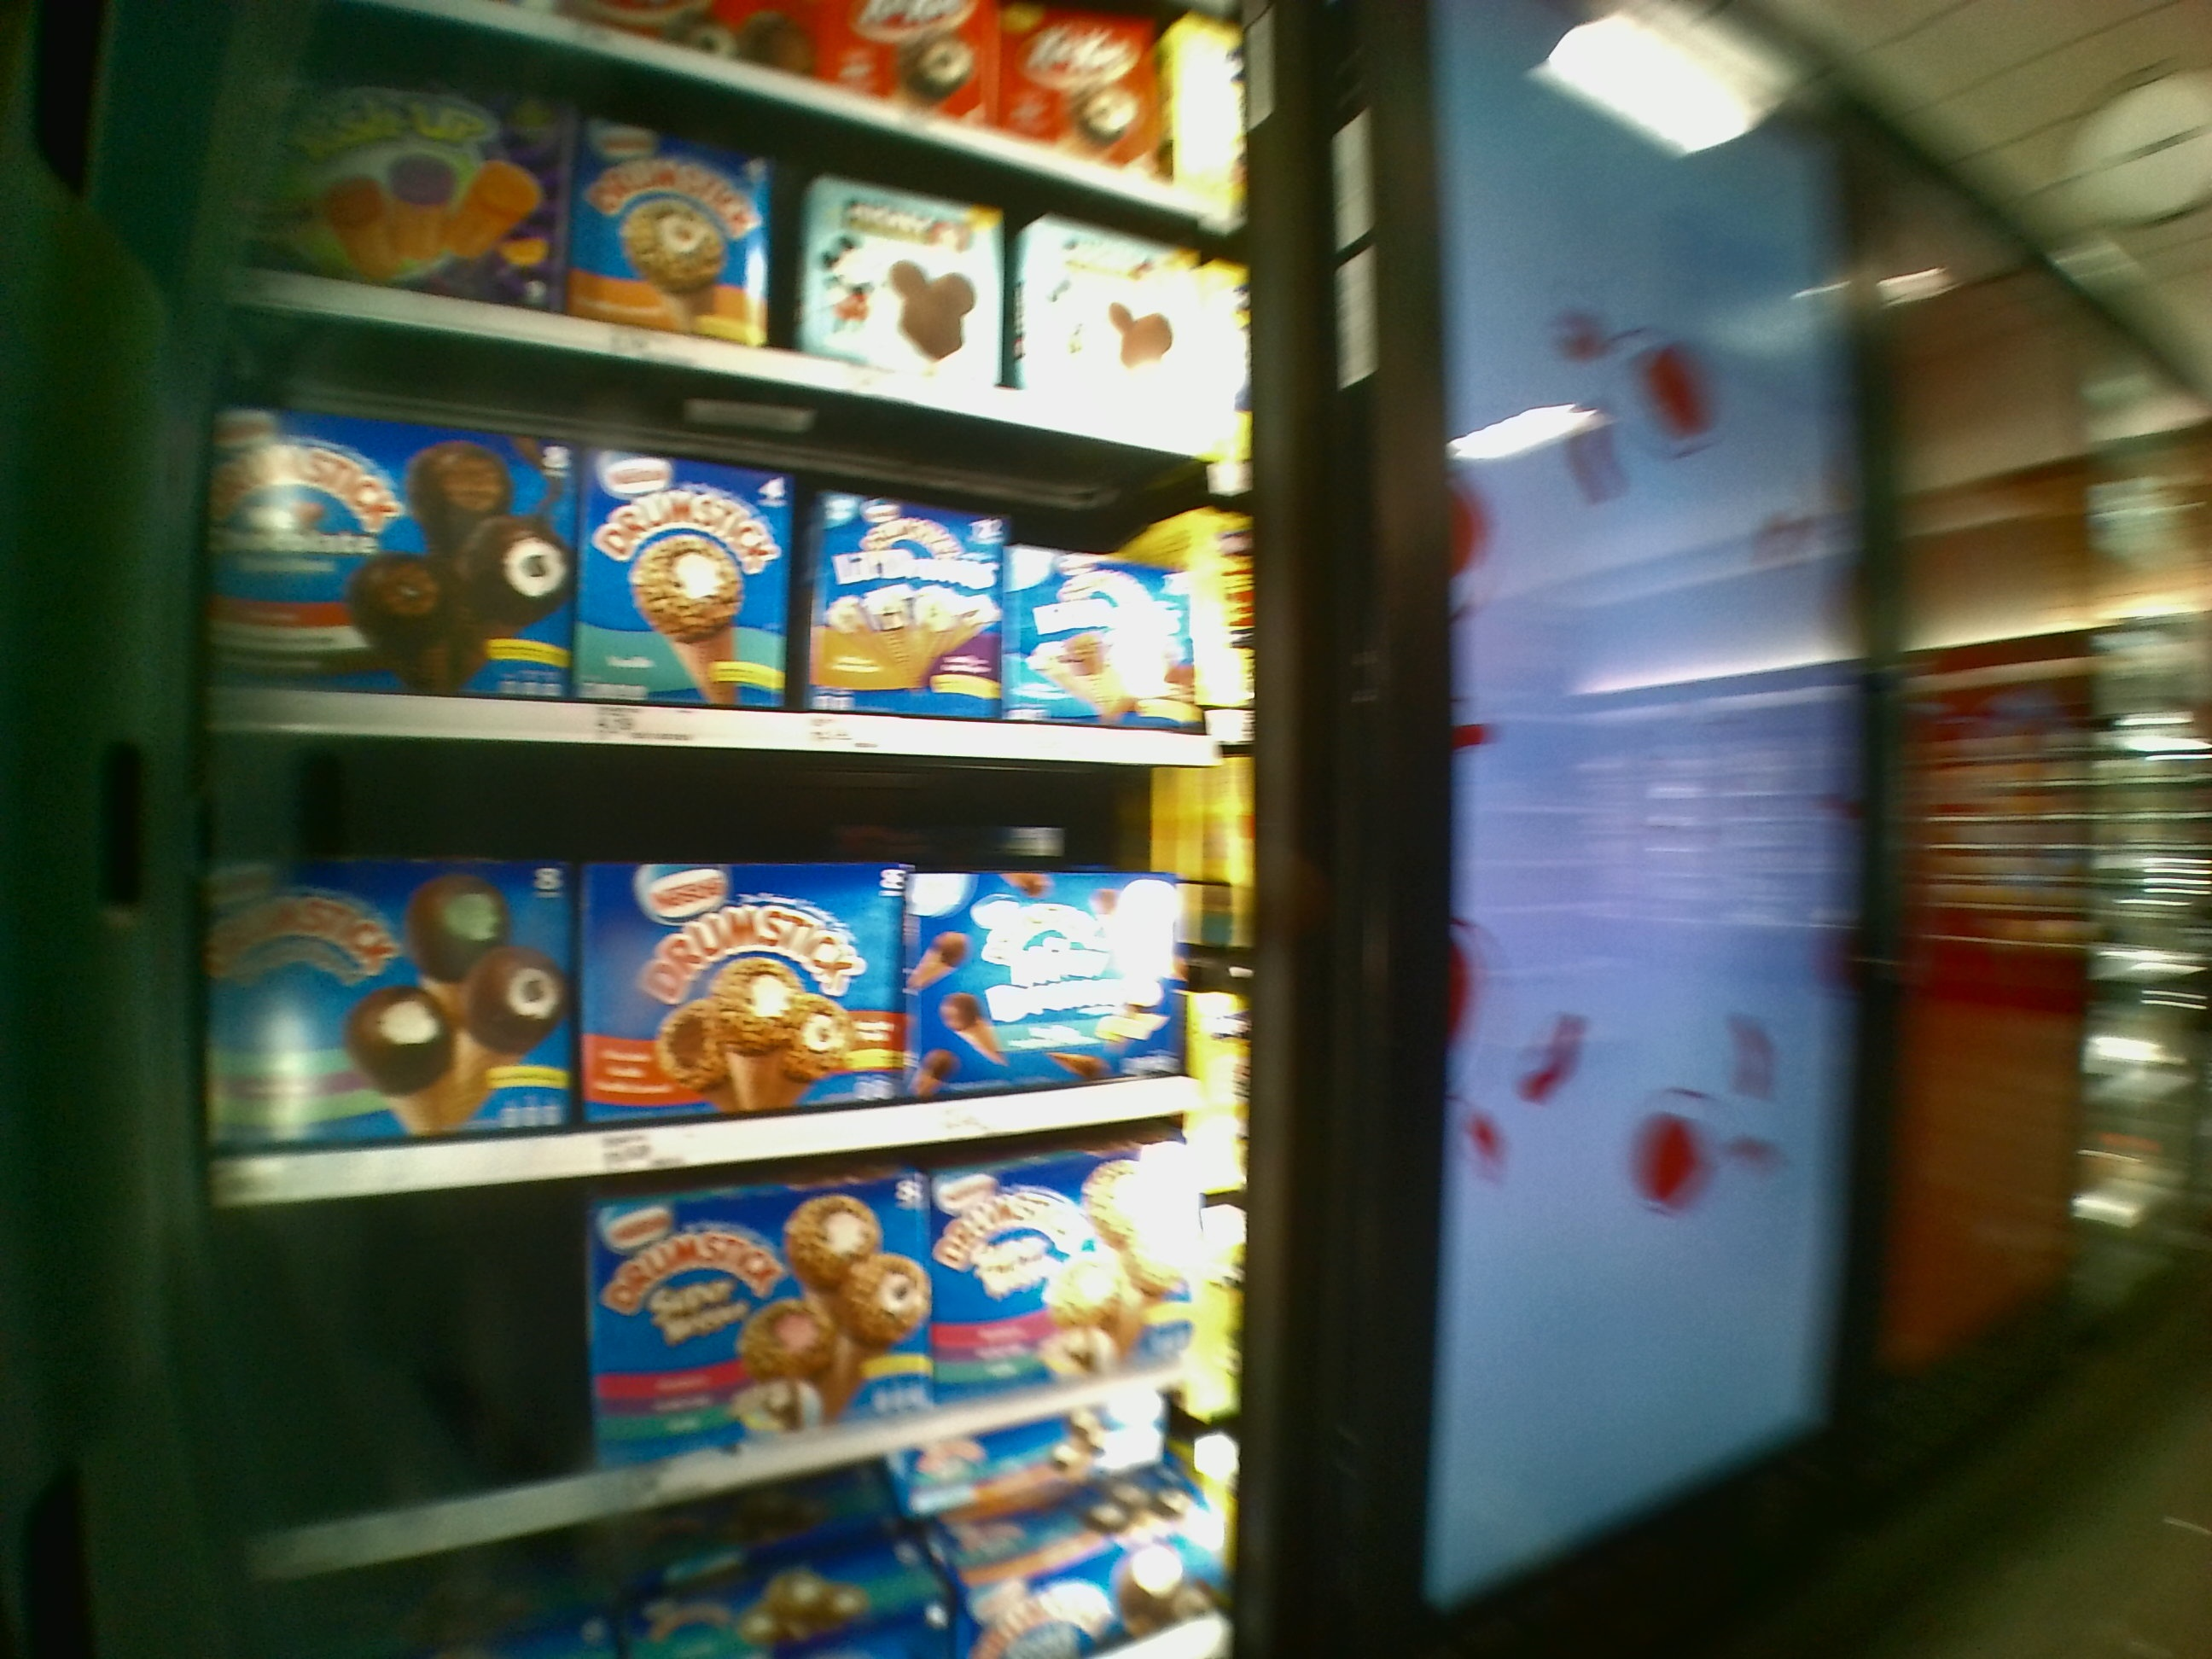shelf: (202, 775, 1245, 1140), (211, 444, 1245, 767), (219, 1131, 1231, 1459)
